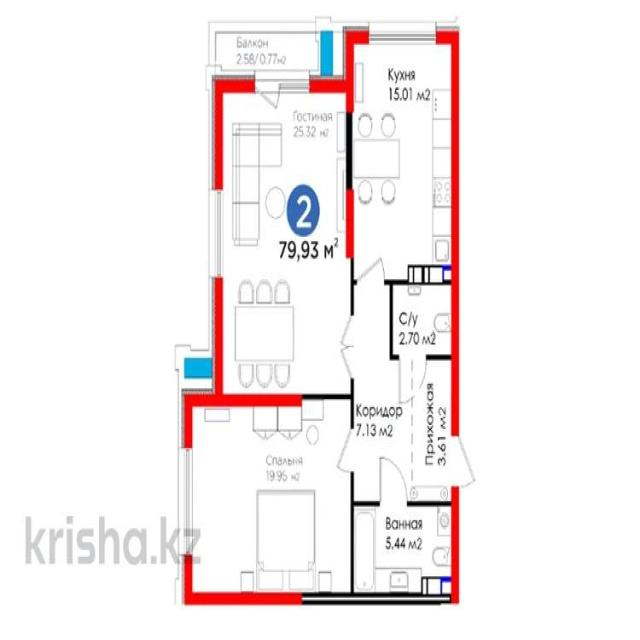balcony: (212, 29, 351, 79)
bathroom: (352, 503, 456, 597), (390, 284, 457, 359)
hallway: (350, 285, 456, 504)
kitchen: (346, 28, 456, 286)
living_room: (216, 79, 354, 400), (186, 397, 353, 597)
